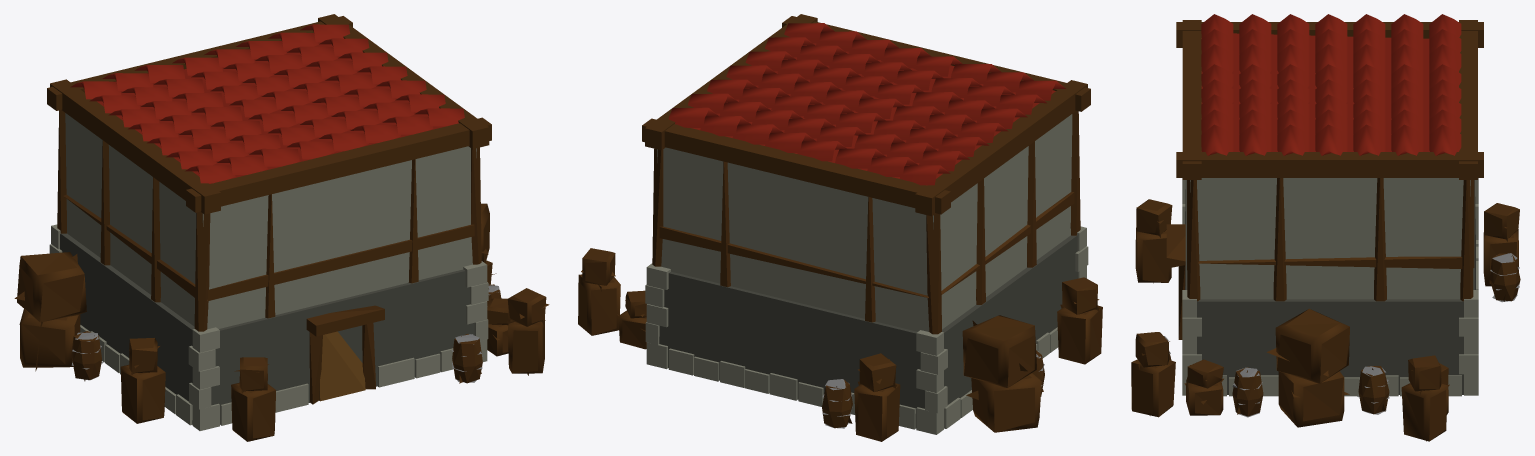
File: Storage_SecondAge_Level2.fbx
The picture shows the model from 3 angles, left to right: view 1: azimuth 30°, elevation 25°; view 2: azimuth 150°, elevation 25°; view 3: azimuth 270°, elevation 25°; orthographic projection.
Visible parts, largest first — view 1: High_Storage_SecondAge_Level2, Low_Storage_SecondAge_Level2; view 2: High_Storage_SecondAge_Level2; view 3: High_Storage_SecondAge_Level2.
Boxes of the visible parts, x1,y1,x2,y2 form: High_Storage_SecondAge_Level2: (17, 14, 546, 441); Low_Storage_SecondAge_Level2: (14, 231, 549, 393); High_Storage_SecondAge_Level2: (578, 14, 1102, 441); High_Storage_SecondAge_Level2: (1131, 14, 1520, 441).
Bounding box in the file's own units: 164 × 91.53 × 124.
